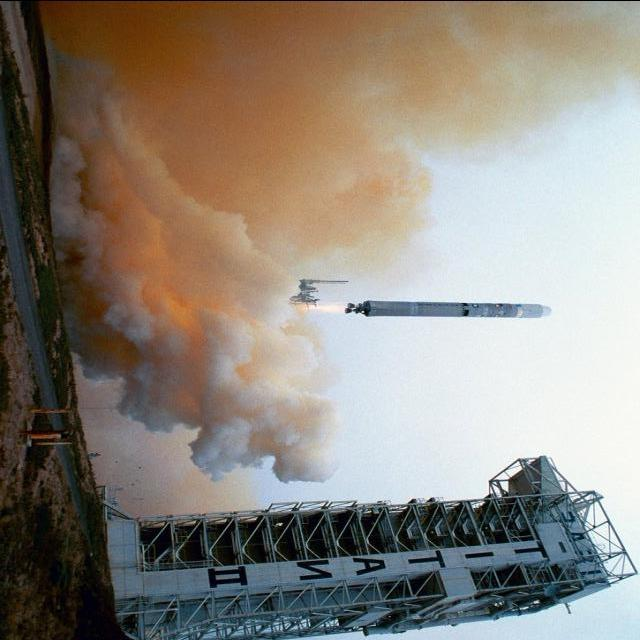Missile: (339, 295, 557, 318)
